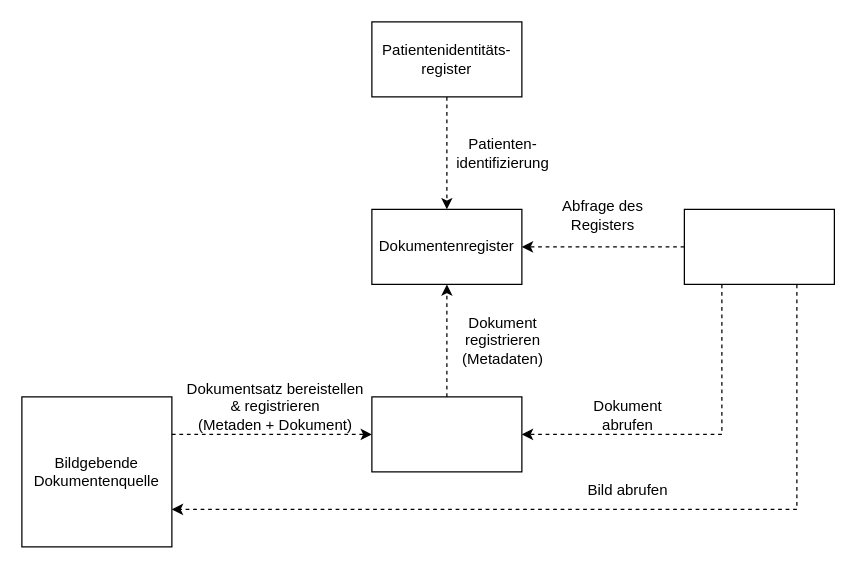
This 856x569 diagram has some shape labels left out. The shapes that lost their labels are listed below. From the top down, each one's centre as x and y in pixels, then its label:
At (x=758, y=246): "Datenkonsument".
At (x=446, y=434): "Dokumenten-Repository".
